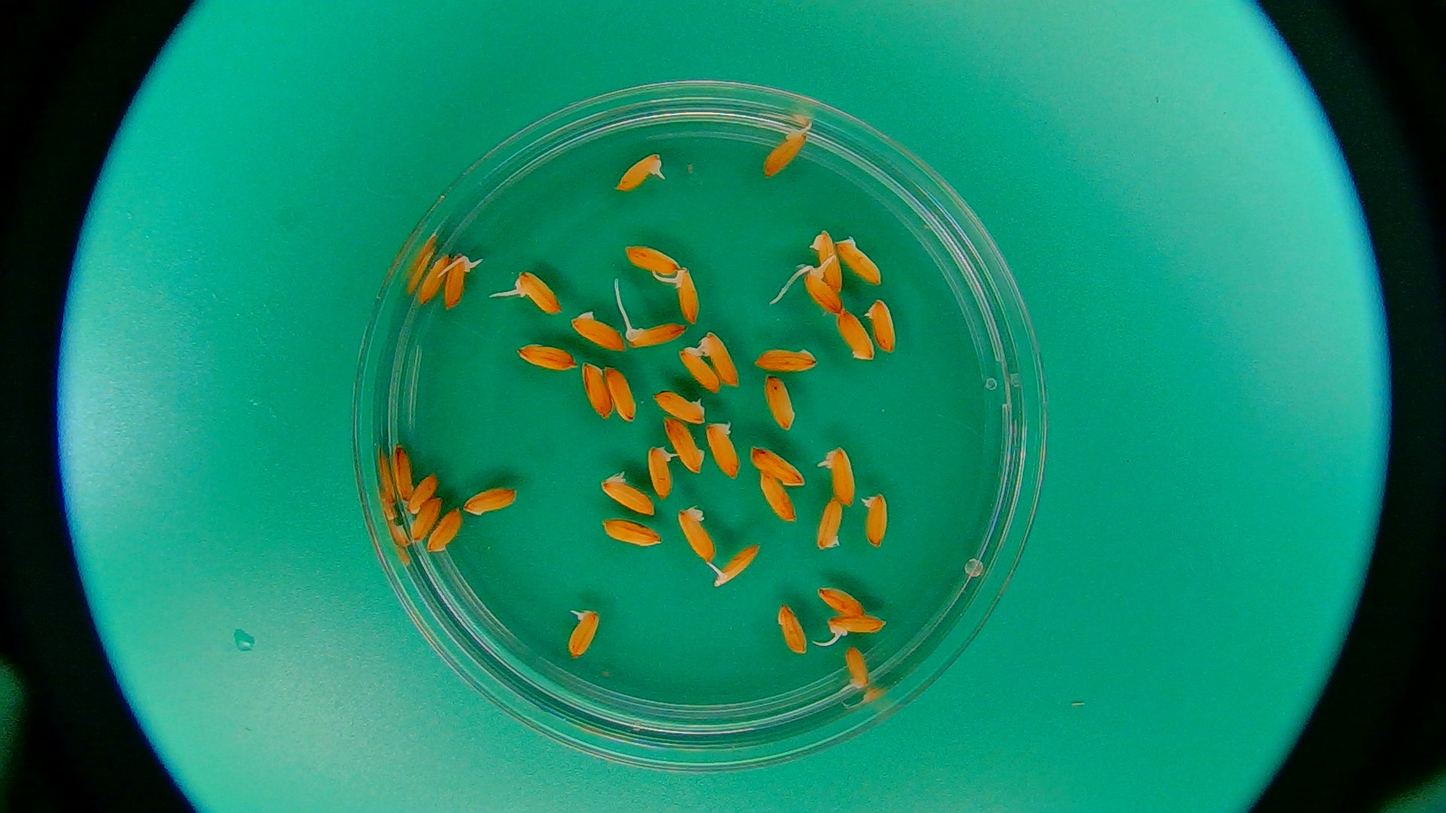no: (660, 416, 707, 474), (749, 445, 806, 486), (676, 506, 718, 560), (412, 250, 451, 306), (569, 309, 623, 349), (861, 296, 898, 354), (704, 423, 743, 478), (840, 236, 885, 283), (835, 307, 873, 361), (599, 519, 663, 551), (811, 230, 843, 292), (705, 330, 741, 385), (461, 484, 519, 518), (515, 340, 578, 371), (764, 374, 797, 433), (651, 388, 708, 422), (753, 343, 818, 372), (679, 346, 719, 393), (579, 361, 611, 419), (775, 601, 808, 656), (608, 364, 638, 422), (625, 245, 682, 275), (816, 584, 868, 614), (390, 440, 414, 501), (817, 499, 843, 553), (761, 477, 792, 521), (411, 498, 439, 544), (429, 511, 459, 553), (409, 476, 435, 516)
yes: (512, 267, 563, 316), (762, 130, 810, 181), (601, 473, 656, 517), (612, 153, 668, 193), (796, 263, 840, 313), (442, 254, 480, 311), (712, 546, 760, 588), (566, 605, 602, 660), (627, 316, 685, 349), (824, 448, 858, 504), (670, 268, 703, 318), (862, 491, 889, 549), (646, 446, 676, 498), (823, 617, 889, 639), (844, 644, 871, 690)
